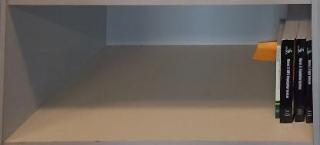book-spine: (293, 39, 307, 123), (280, 40, 294, 124), (305, 40, 313, 124), (275, 45, 281, 119)
